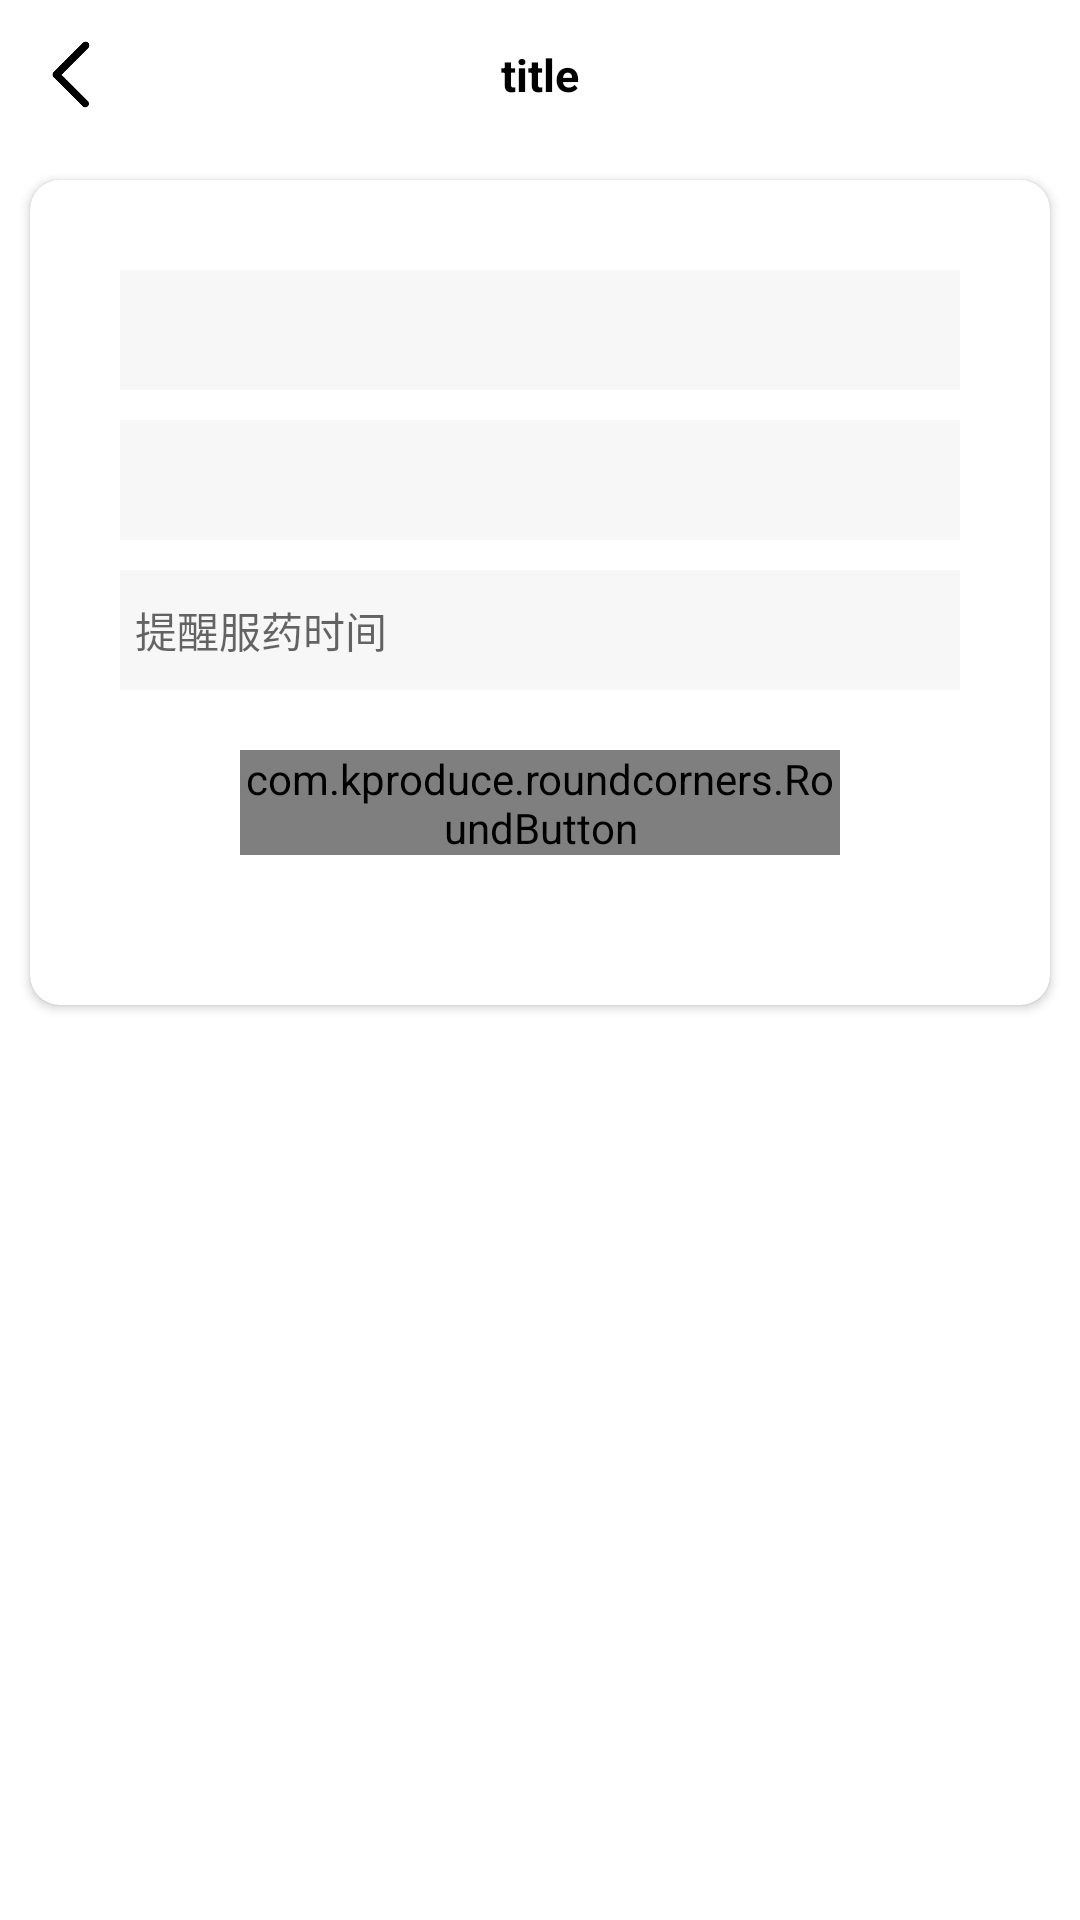

Named icons in this screenshot (1080px×1920px) and their centers, point (x, y):
arrow left: point (71, 74)
